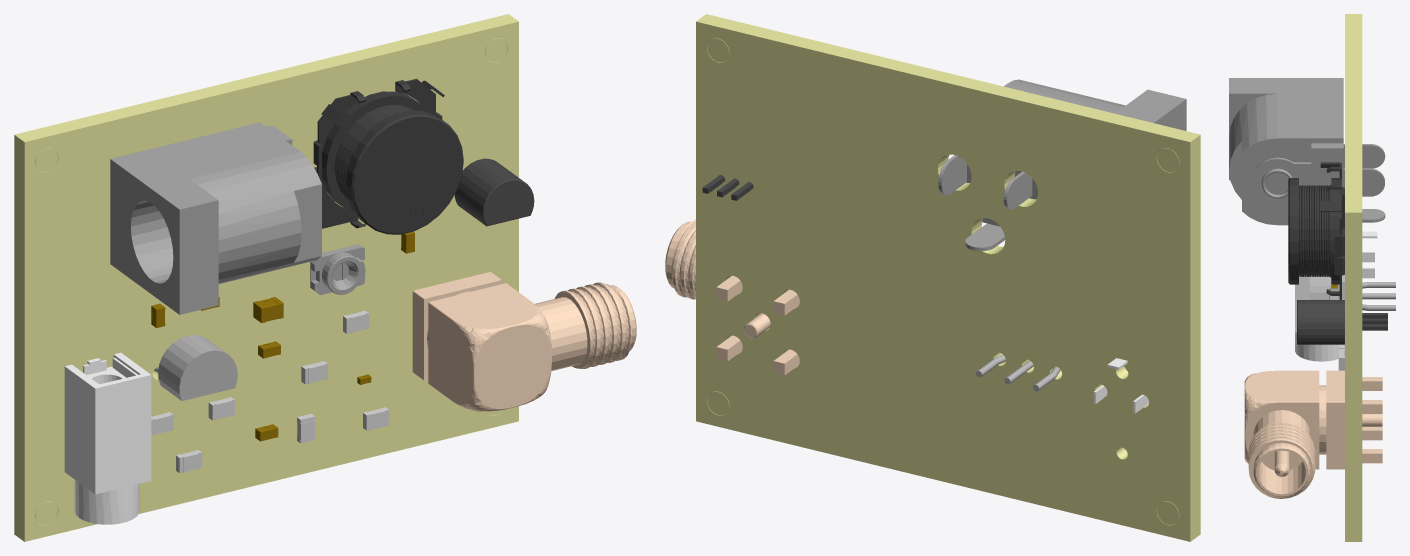
The model's file is pcb.glb.
3 renders of one model, left to right at view 1: azimuth 30°, elevation 25°; view 2: azimuth 150°, elevation 25°; view 3: azimuth 270°, elevation 25°, orthographic. The views are drawn at different scales.
Visible parts, largest first — view 1: =>[0:1:1:2], =>[0:1:1:10], =>[0:1:1:12], =>[0:1:1:20], =>[0:1:1:22], =>[0:1:1:28], =>[0:1:1:26], =>[0:1:1:16]; view 2: =>[0:1:1:2], =>[0:1:1:10], =>[0:1:1:12], =>[0:1:1:28], =>[0:1:1:26]; view 3: =>[0:1:1:10], =>[0:1:1:12], =>[0:1:1:2], =>[0:1:1:20], =>[0:1:1:26], =>[0:1:1:22], =>[0:1:1:28].
Part boxes in pixels (<box>): =>[0:1:1:2]: <box>14,14,518,541</box>; =>[0:1:1:10]: <box>110,122,321,314</box>; =>[0:1:1:12]: <box>412,272,636,411</box>; =>[0:1:1:20]: <box>313,78,463,234</box>; =>[0:1:1:22]: <box>64,352,151,524</box>; =>[0:1:1:28]: <box>154,335,237,400</box>; =>[0:1:1:26]: <box>454,158,534,226</box>; =>[0:1:1:16]: <box>310,244,365,295</box>; =>[0:1:1:2]: <box>696,14,1200,541</box>; =>[0:1:1:10]: <box>938,79,1186,251</box>; =>[0:1:1:12]: <box>665,219,799,375</box>; =>[0:1:1:28]: <box>975,355,1060,391</box>; =>[0:1:1:26]: <box>702,175,753,200</box>; =>[0:1:1:10]: <box>1229,78,1385,225</box>; =>[0:1:1:12]: <box>1244,370,1382,498</box>; =>[0:1:1:2]: <box>1345,14,1362,541</box>; =>[0:1:1:20]: <box>1288,162,1344,299</box>; =>[0:1:1:26]: <box>1297,300,1387,344</box>; =>[0:1:1:22]: <box>1295,231,1377,361</box>; =>[0:1:1:28]: <box>1309,275,1395,310</box>.
Size of the model in its own units: 0.0496 by 0.034 by 0.0156.
